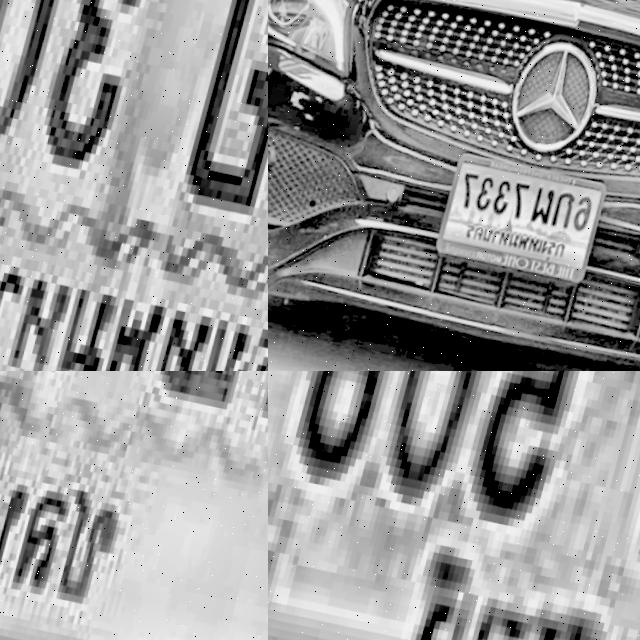license-plate: (268, 371, 640, 640), (0, 0, 268, 371), (0, 371, 268, 640), (440, 151, 614, 281)
